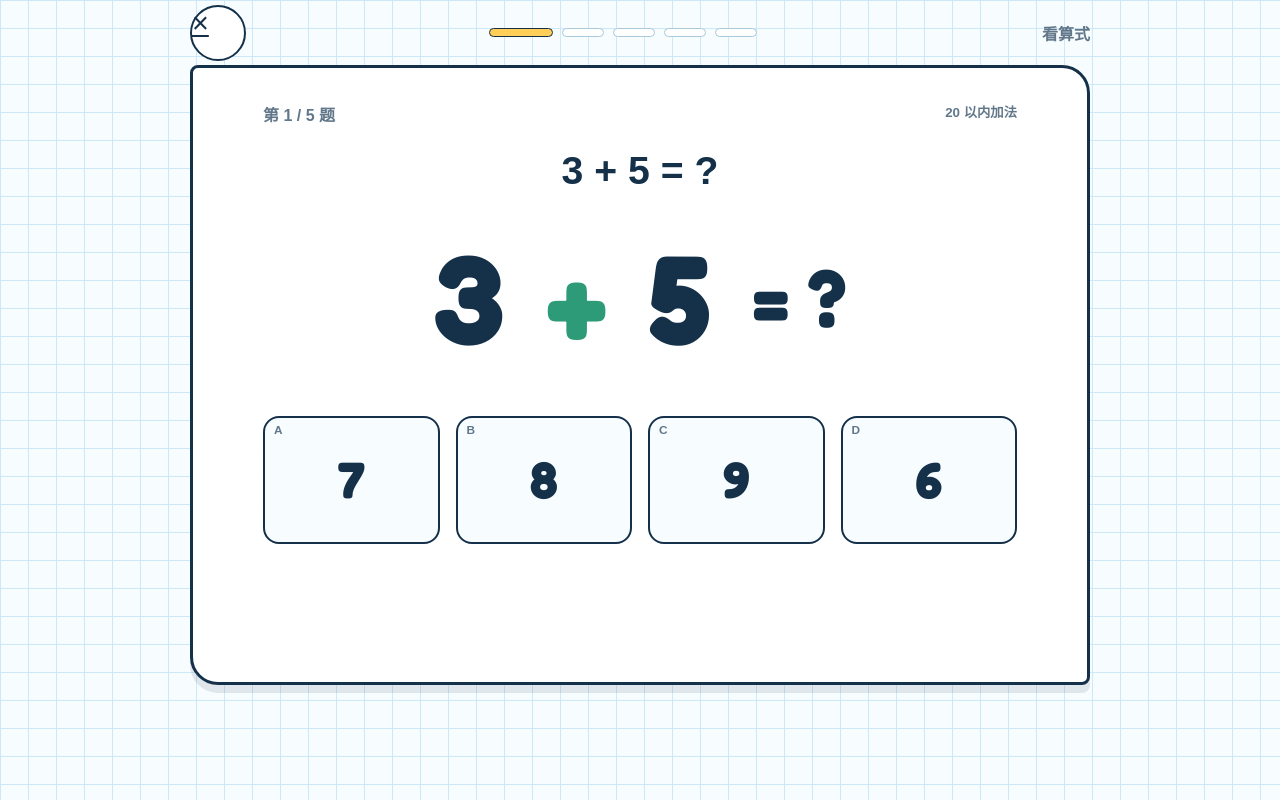
Test: local question type practice › offers one retry and then reveals the answer
The width and height of the screenshot is (1280, 800).
Click the button "A 7".
click(351, 480)  # box [263,416,440,544]
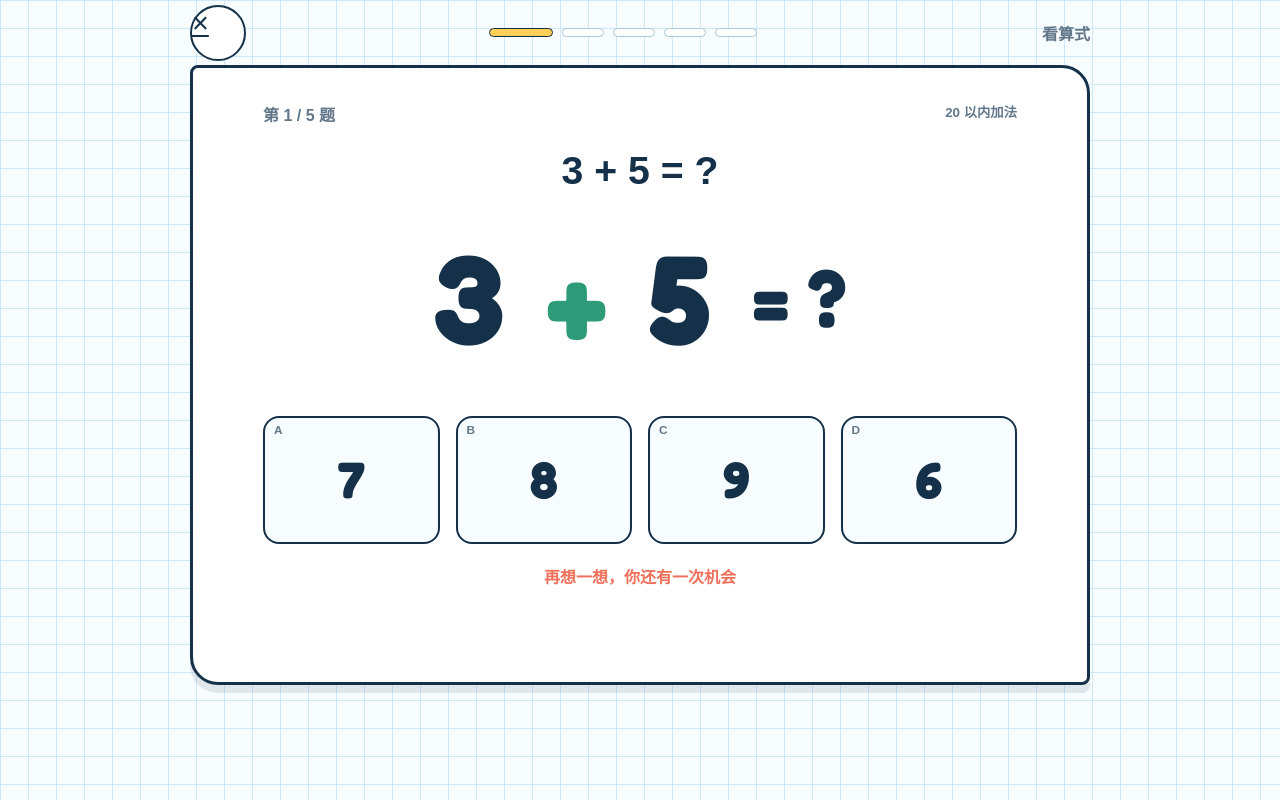
Check: the text "再想一想，你还有一次机会" is shown, box [544,569,736,586]
Click the button "C 9".
click(736, 480)  # box [648,416,824,544]
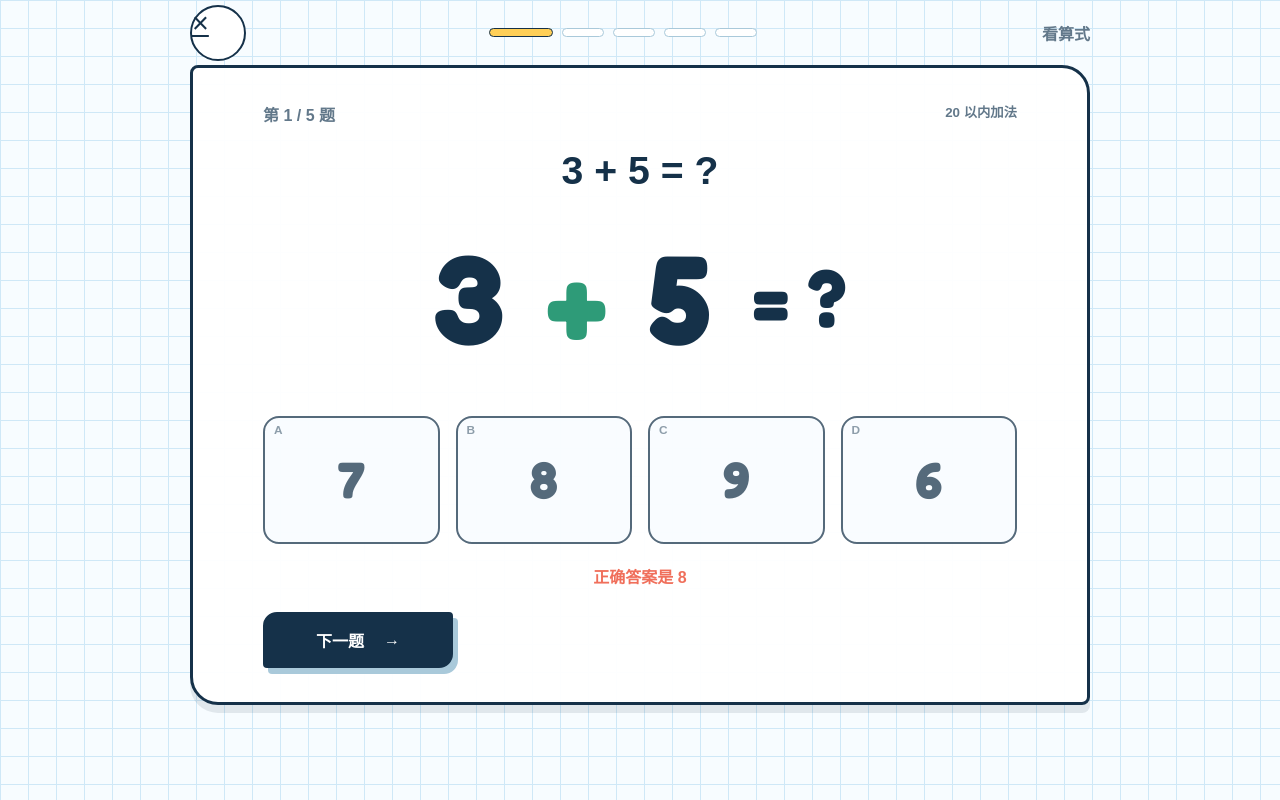
Check: the text "正确答案是 8" is shown, box [593,569,687,586]
Check: the button "下一题 →" is shown, box [263,612,453,668]
